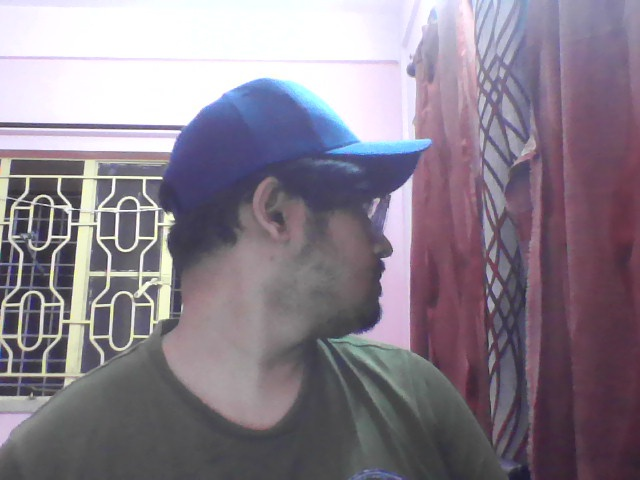Helmet: (142, 63, 442, 219)
